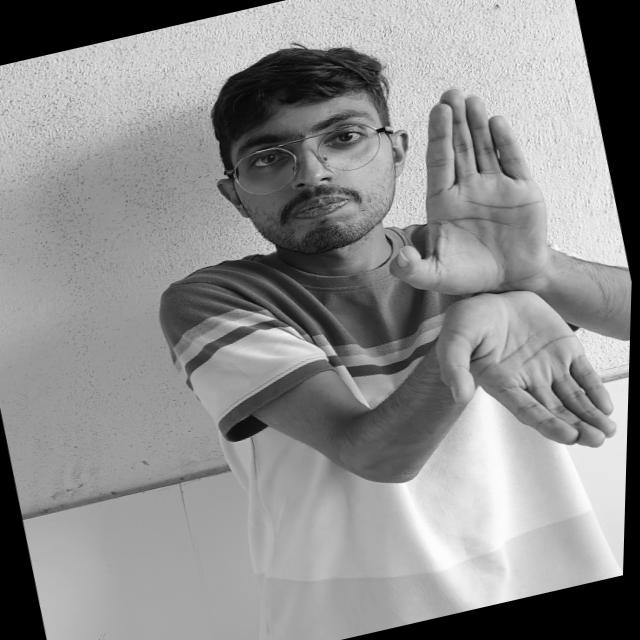Morning: (332, 53, 639, 510)
